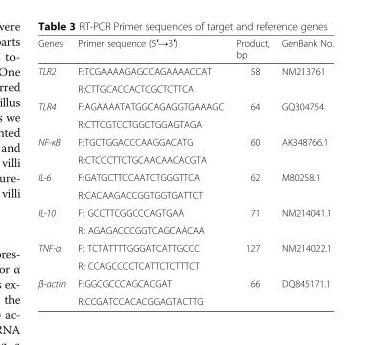table: (37, 36, 333, 306)
table column: (71, 36, 229, 306), (274, 36, 333, 306), (229, 36, 274, 306), (37, 36, 71, 306)
table column header: (37, 36, 333, 62)
table row: (37, 36, 333, 62), (37, 79, 333, 97), (37, 97, 333, 115), (37, 132, 333, 150), (37, 150, 333, 168), (37, 185, 333, 203), (37, 203, 333, 221), (37, 238, 333, 256), (37, 273, 333, 291), (37, 62, 333, 79), (37, 115, 333, 132), (37, 168, 333, 185), (37, 221, 333, 238), (37, 256, 333, 273), (37, 291, 333, 306)
table spanning cell: (229, 132, 274, 168), (229, 62, 274, 97), (229, 97, 274, 132), (229, 168, 274, 203), (229, 203, 274, 238), (229, 238, 274, 273), (229, 273, 274, 306), (37, 132, 71, 168), (37, 62, 71, 97), (37, 97, 71, 132), (37, 168, 71, 203), (37, 203, 71, 238), (37, 238, 71, 273), (37, 273, 71, 306)
